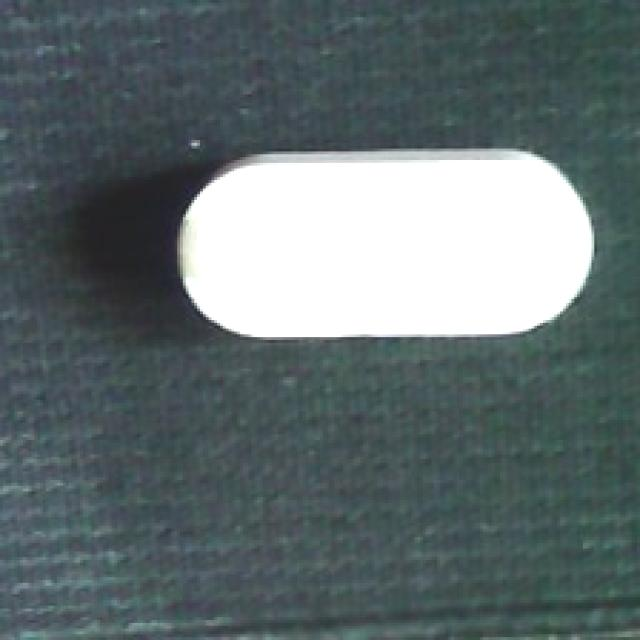no-defect: (171, 148, 603, 348)
